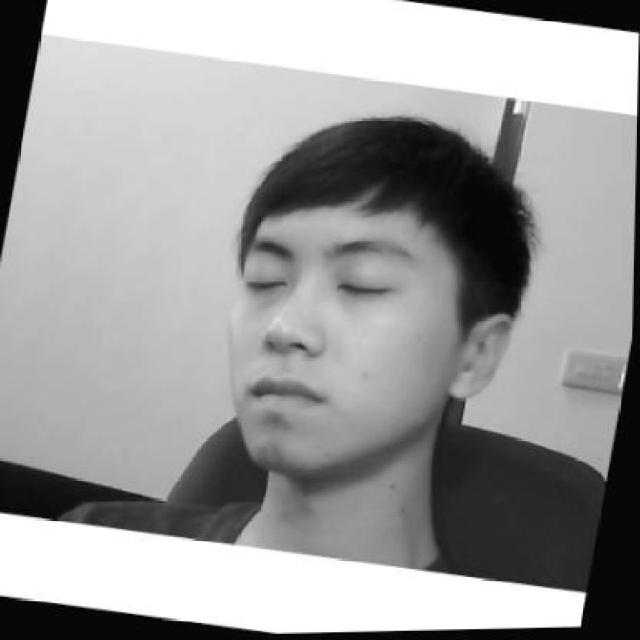inattentif: (197, 89, 548, 506)
